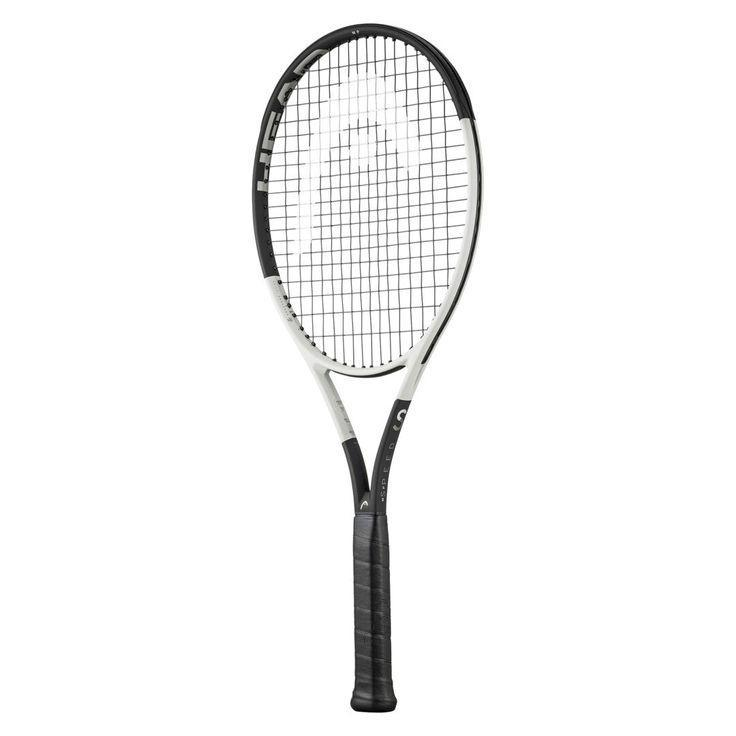Tennis-Racket: (254, 27, 483, 708)
